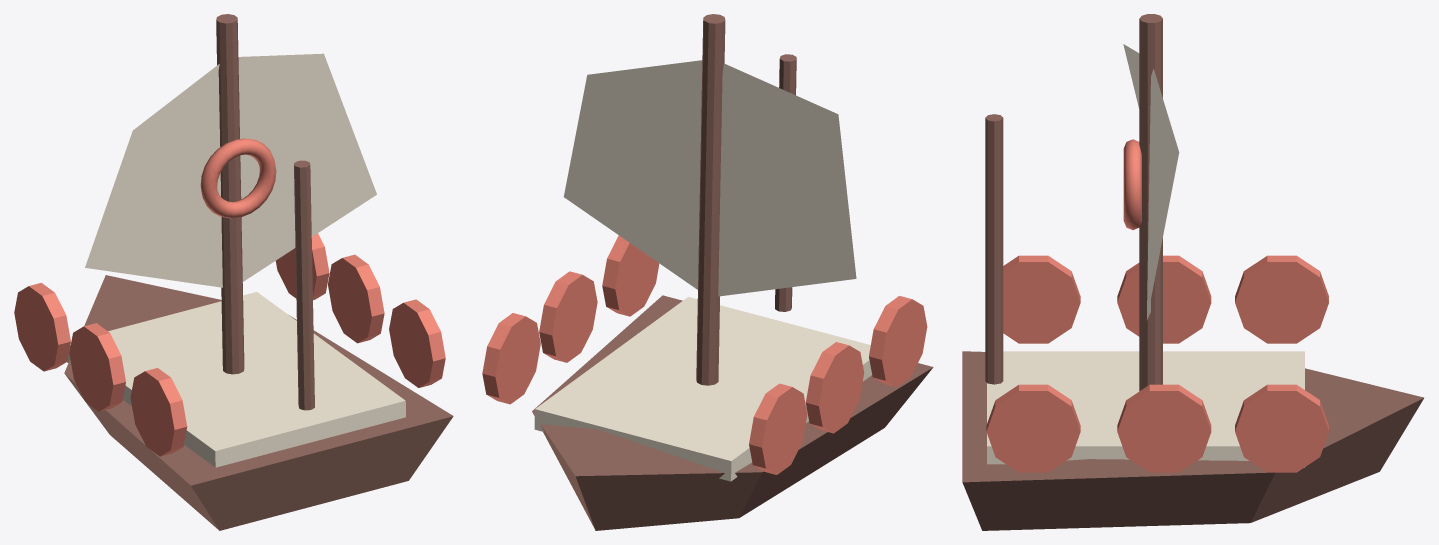
File: escort.glb
3 renders of one model, left to right at view 1: azimuth 30°, elevation 25°; view 2: azimuth 150°, elevation 25°; view 3: azimuth 270°, elevation 25°, orthographic. The views are drawn at different scales.
Parts seen in each view (by area): view 1: Distinctive sail, Pearl deck, Carved hull, Mast, Second mast, Escort shield.004, Escort shield, Escort shield.002, Escort shield.001, Escort shield.003, Crown shell emblem, Escort shield.005; view 2: Distinctive sail, Pearl deck, Carved hull, Mast, Escort shield.004, Escort shield.001, Escort shield.005, Escort shield, Escort shield.002, Escort shield.003, Second mast; view 3: Carved hull, Pearl deck, Escort shield.003, Escort shield.004, Escort shield.002, Escort shield.005, Mast, Escort shield, Second mast, Escort shield.001, Distinctive sail, Crown shell emblem.
Boxes of the visible parts, x1,y1,x2,y2 form: Distinctive sail: (85, 53, 376, 287); Pearl deck: (67, 292, 405, 467); Carved hull: (64, 275, 453, 530); Mast: (216, 14, 244, 374); Second mast: (294, 160, 314, 410); Escort shield.004: (328, 254, 384, 343); Escort shield: (130, 368, 187, 456); Escort shield.002: (14, 282, 70, 371); Escort shield.001: (69, 323, 125, 411); Escort shield.003: (389, 299, 445, 387); Crown shell emblem: (200, 138, 276, 218); Escort shield.005: (275, 233, 329, 300); Distinctive sail: (563, 60, 856, 296); Pearl deck: (534, 297, 872, 481); Carved hull: (532, 295, 933, 530); Mast: (696, 14, 725, 385); Escort shield.004: (539, 271, 597, 362); Escort shield.001: (805, 342, 864, 433); Escort shield.005: (482, 313, 540, 404); Escort shield: (869, 296, 927, 387); Escort shield.002: (749, 383, 807, 474); Escort shield.003: (602, 235, 659, 316); Second mast: (775, 54, 796, 311); Carved hull: (962, 351, 1423, 530); Pearl deck: (987, 351, 1304, 467); Escort shield.003: (986, 384, 1080, 472); Escort shield.004: (1117, 384, 1211, 472); Escort shield.002: (1235, 255, 1328, 343); Escort shield.005: (1235, 384, 1328, 472); Mast: (1139, 14, 1162, 391); Escort shield: (1003, 255, 1080, 343); Second mast: (985, 114, 1003, 384); Escort shield.001: (1117, 255, 1211, 343); Distinctive sail: (1123, 44, 1179, 320); Crown shell emblem: (1123, 139, 1141, 229).
Bounding box in the file's own units: 1.36 × 1.95 × 1.77.
